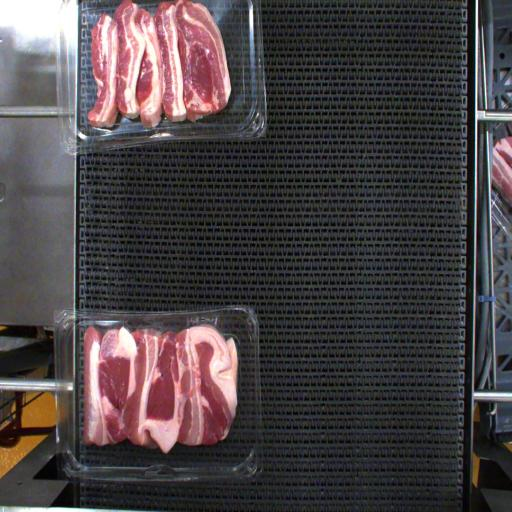packaging-error: (177, 312, 228, 332)
unsealed: (110, 318, 184, 346)
